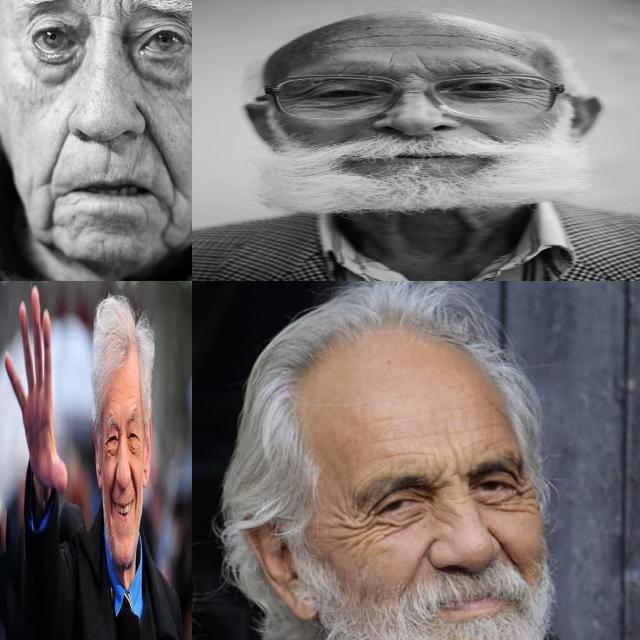crows_feet: (340, 507, 380, 549), (508, 477, 536, 515), (514, 83, 545, 103), (282, 91, 320, 107), (103, 437, 109, 461), (137, 435, 142, 463)
forehead: (384, 443, 434, 465), (381, 28, 447, 42), (454, 32, 502, 47), (328, 31, 368, 46), (109, 394, 120, 408), (125, 390, 136, 404)
frown_line: (446, 443, 466, 485), (93, 0, 127, 23), (412, 57, 441, 75), (382, 56, 400, 75)
gummy_smile: (143, 116, 180, 176), (46, 119, 68, 183), (404, 542, 434, 580), (488, 528, 516, 564), (471, 126, 508, 143), (340, 124, 362, 145), (110, 464, 117, 496), (131, 466, 137, 492)
masseter: (106, 497, 111, 525)
sad_smile: (158, 202, 178, 248), (42, 194, 58, 234)
